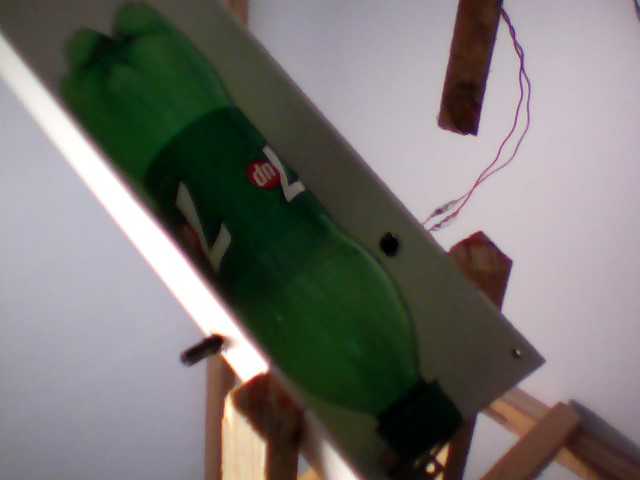plastico: (44, 2, 471, 469)
